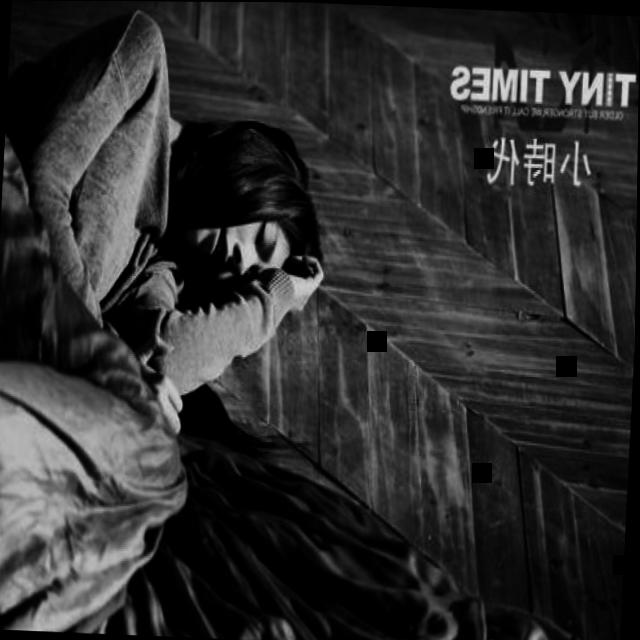Fall-Detected: (0, 16, 341, 608)
